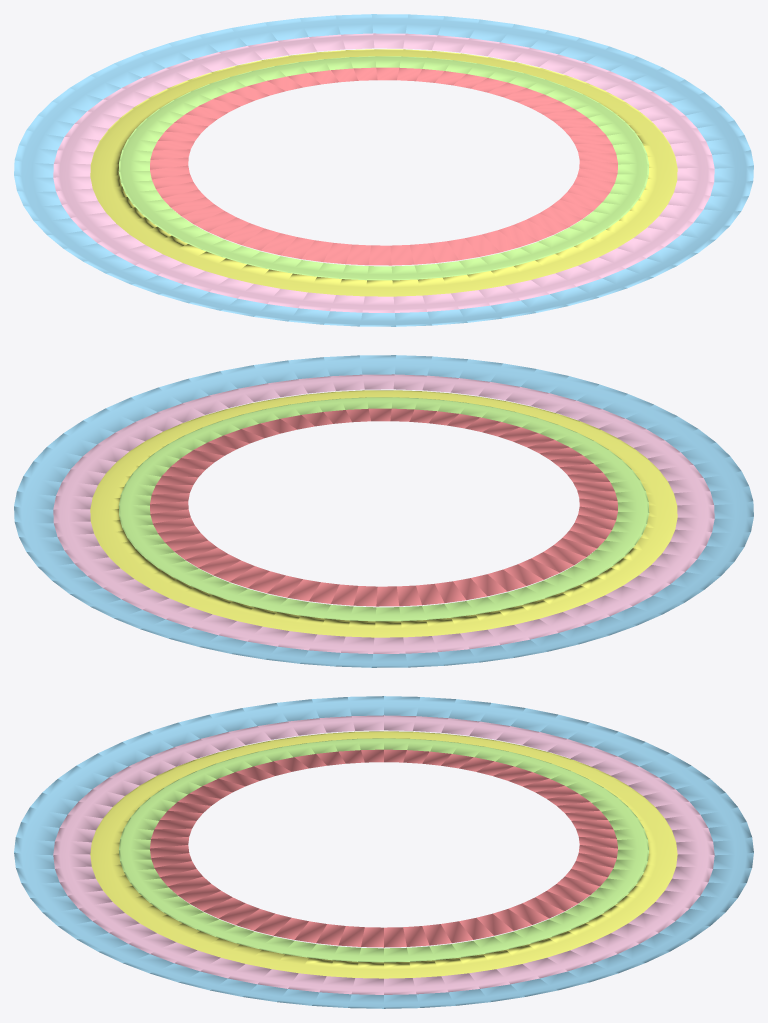
The model's file is rainbow.fbx.
3 views of the same model, one above another, from view 1: azimuth 30°, elevation 25°; view 2: azimuth 150°, elevation 25°; view 3: azimuth 270°, elevation 25° (orthographic).
Parts seen in each view (by area): view 1: rainbow1; view 2: rainbow1; view 3: rainbow1.
Boxes of the visible parts, x1=… form: rainbow1: x1=14, y1=14, x2=753, y2=326; rainbow1: x1=14, y1=355, x2=753, y2=667; rainbow1: x1=14, y1=696, x2=753, y2=1008.
Bounding box in the file's own units: 80.13 × 1.49 × 80.13.
